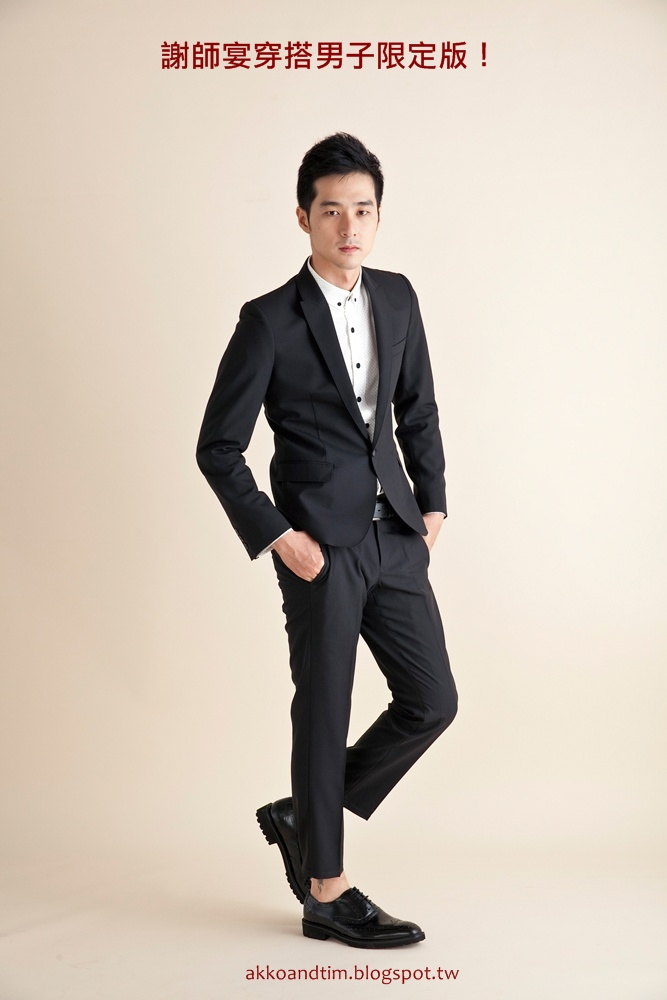F_M_suit jacket: (204, 272, 457, 549)
F_dress pants: (276, 531, 467, 891)
F_shirt: (310, 272, 395, 431)
